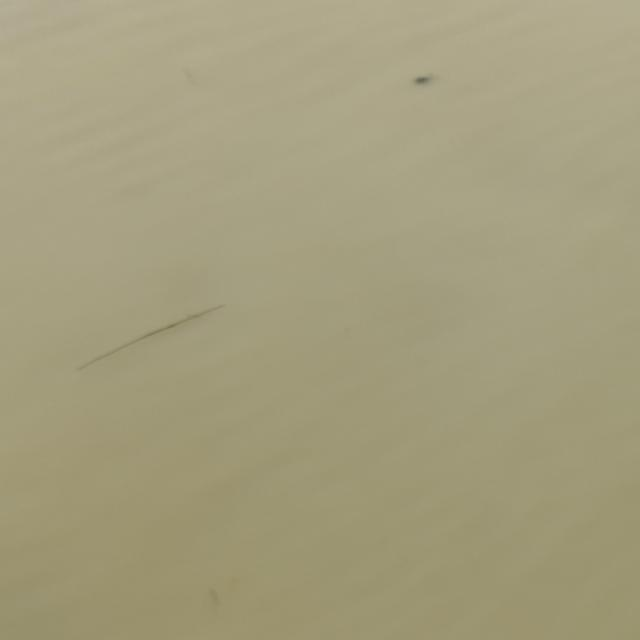Organic Debris: (64, 298, 234, 379), (408, 72, 442, 89)
